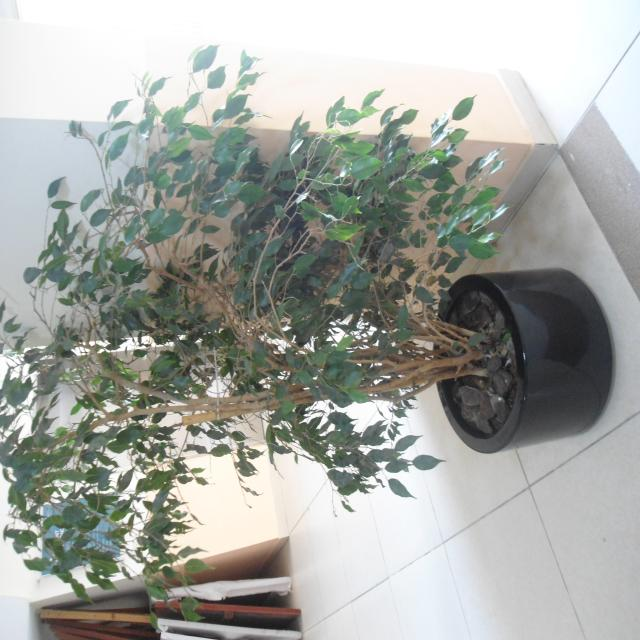pillar: (0, 20, 540, 310)
tree-chair-bench-table-wall: (0, 28, 616, 624)
